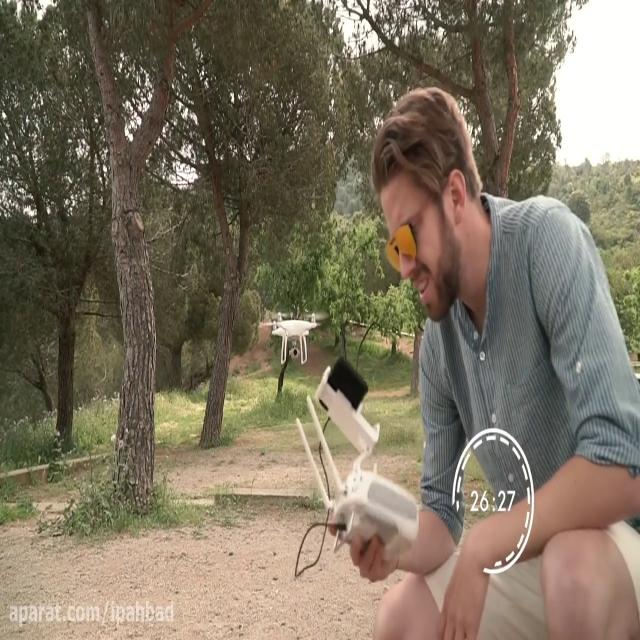drone: (256, 306, 332, 366)
